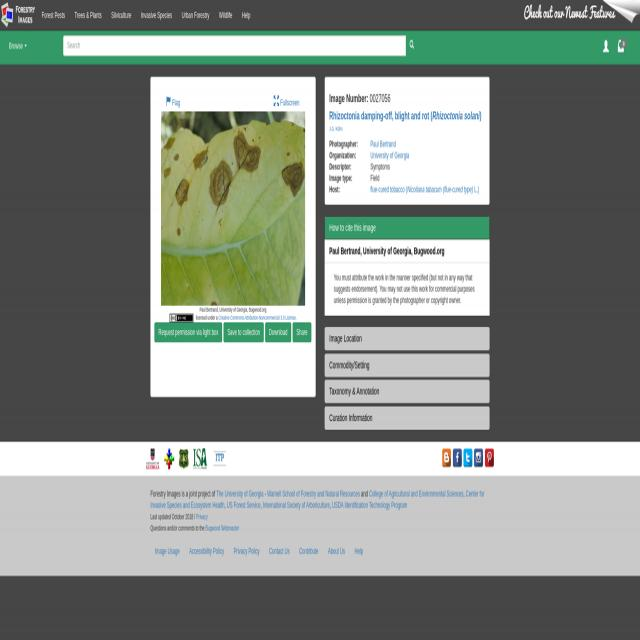button: (161, 112, 305, 306), (154, 322, 222, 342), (137, 1, 178, 31), (0, 0, 37, 30), (177, 0, 214, 30), (70, 0, 106, 30), (37, 0, 69, 30), (106, 0, 135, 30), (4, 31, 32, 61), (223, 322, 264, 342), (214, 0, 237, 30), (598, 31, 614, 64), (614, 31, 630, 64), (265, 322, 291, 342), (237, 0, 254, 30), (212, 448, 232, 469), (146, 448, 164, 469), (193, 448, 211, 469), (293, 322, 311, 342), (164, 448, 179, 469), (179, 448, 193, 469), (169, 314, 193, 324), (406, 36, 418, 56), (452, 448, 462, 468), (484, 448, 494, 468), (442, 448, 451, 468), (463, 448, 472, 468), (474, 448, 483, 468)
field: (63, 36, 406, 56)
